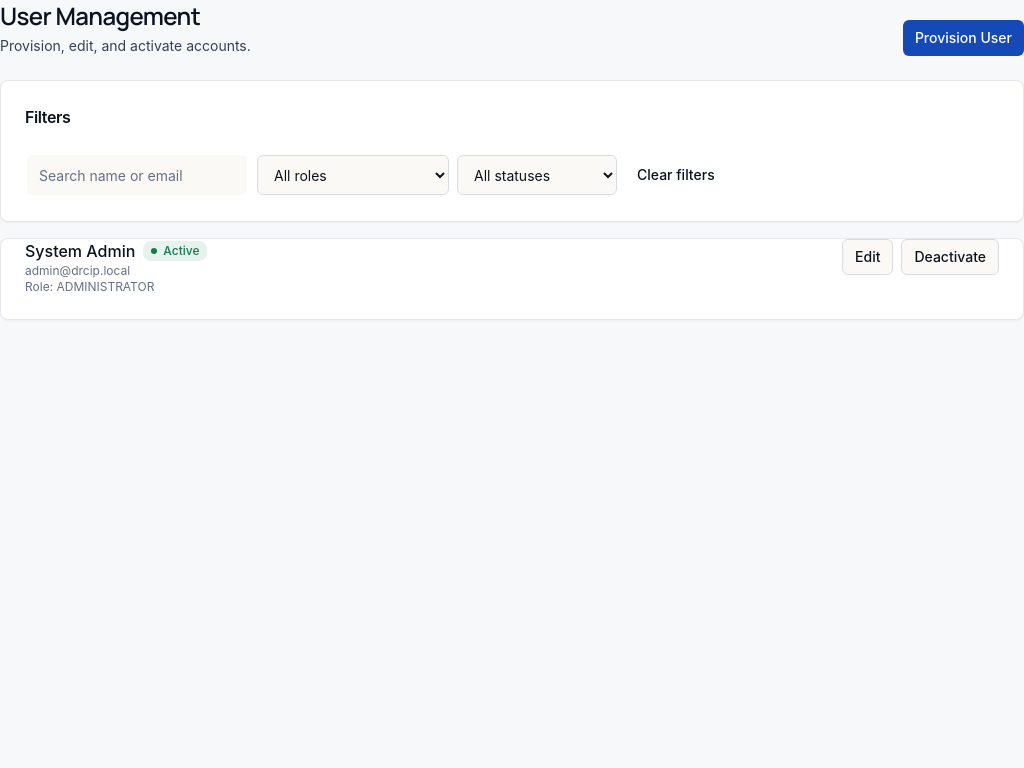
it: Phase 6 — deactivate error feedback › displays user-visible feedback when LAST_ADMINISTRATOR deactivate is rejected
Click the button with test id "deactivate-user".
click(950, 257)  # box [902, 239, 999, 275]
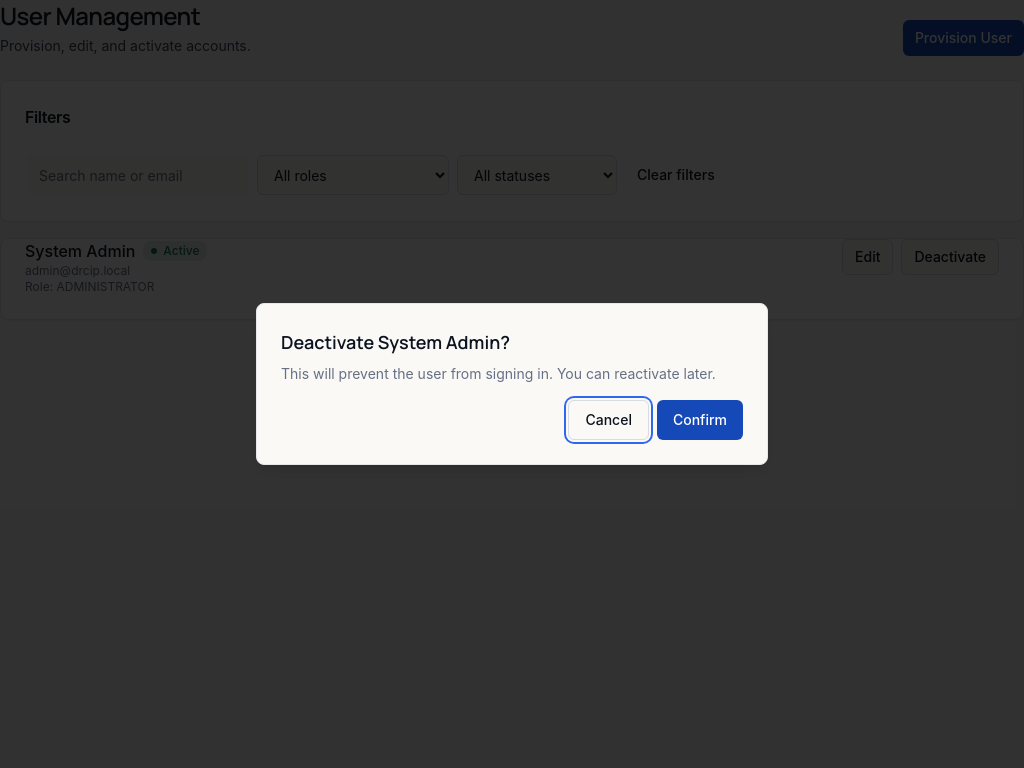
Click the button "Confirm".
click(700, 420)  # box [657, 400, 743, 440]
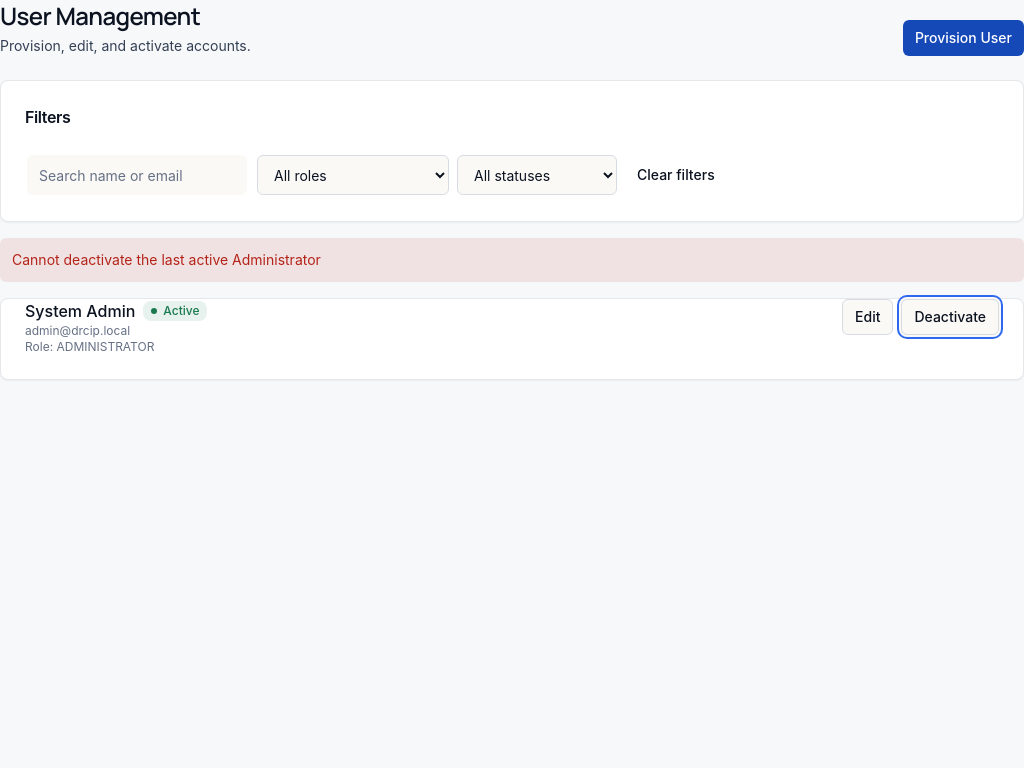
Check: the message reads "Cannot deactivate the last active Administrator", box [12, 251, 321, 268]
